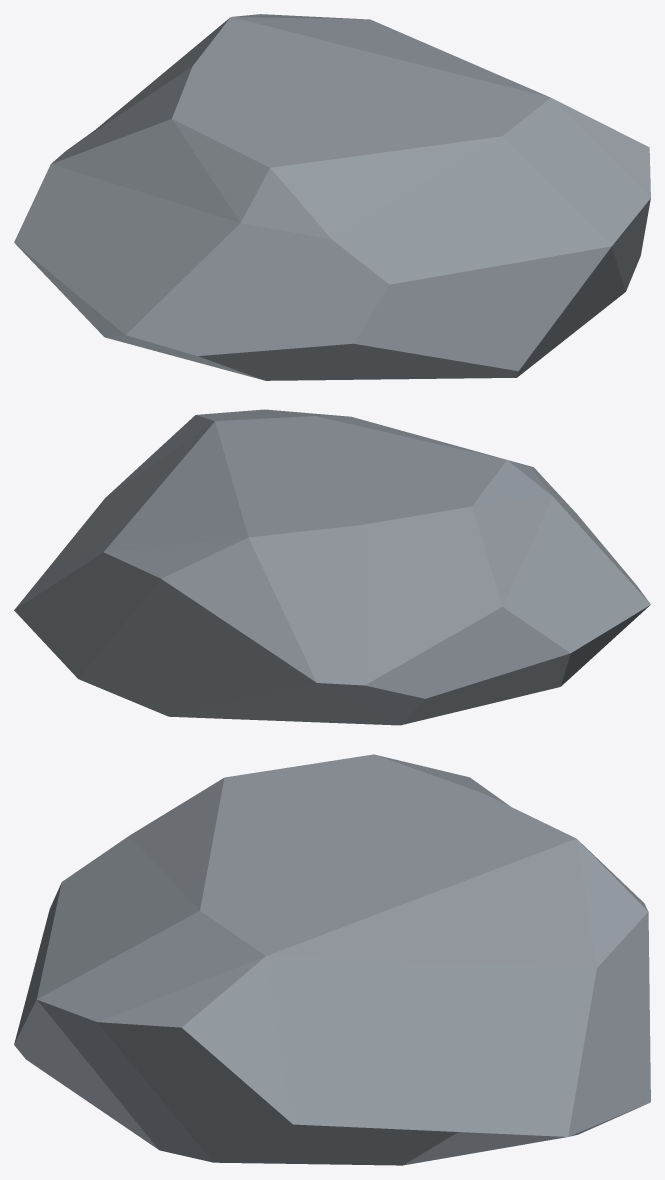
The model's file is Rock_Round_m_02.fbx.
3 renders of one model, top to bottom at view 1: azimuth 30°, elevation 25°; view 2: azimuth 150°, elevation 25°; view 3: azimuth 270°, elevation 25°, orthographic. The views are drawn at different scales.
Parts seen in each view (by area): view 1: Rock_Round_m_02; view 2: Rock_Round_m_02; view 3: Rock_Round_m_02.
Boxes of the visible parts, left/top/right/bottom form: Rock_Round_m_02: left=14, top=14, right=650, bottom=380; Rock_Round_m_02: left=14, top=409, right=650, bottom=725; Rock_Round_m_02: left=14, top=754, right=650, bottom=1165.
Size of the model in its own units: 111 by 35.02 by 98.2.
